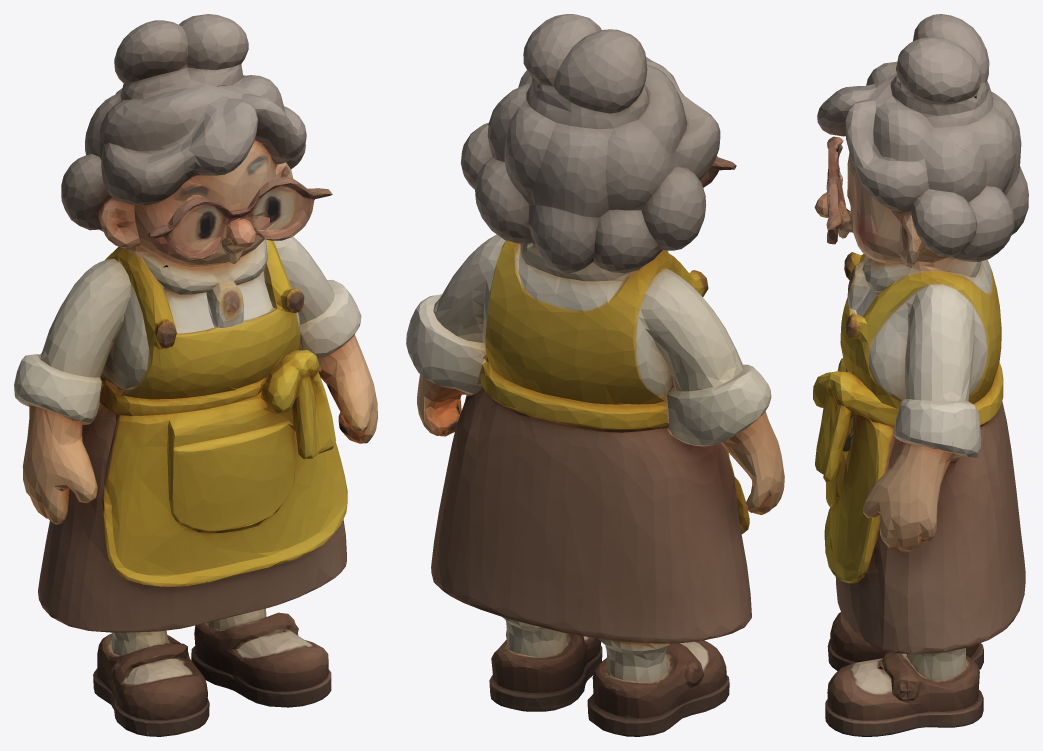
Rendered from mabel.glb.
3 renders of one model, left to right at view 1: azimuth 30°, elevation 25°; view 2: azimuth 150°, elevation 25°; view 3: azimuth 270°, elevation 25°, orthographic. The views are drawn at different scales.
Parts seen in each view (by area): view 1: geometry_0; view 2: geometry_0; view 3: geometry_0.
Part boxes in pixels (x1,y1,x2,y2): geometry_0: (14,14,377,736); geometry_0: (406,14,784,736); geometry_0: (813,14,1028,736).
Size of the model in its own units: 0.5462 by 1 by 0.2984.
Materials: 1 (1 with a texture image).
